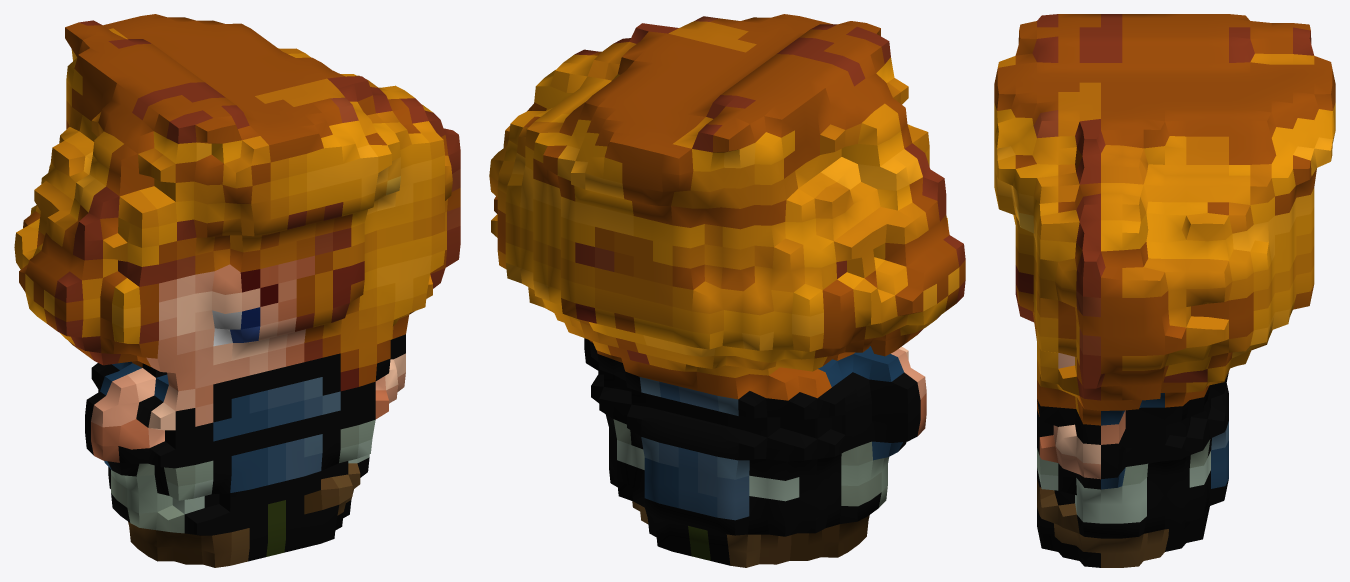
The model's file is Icon_010_03.obj.
3 renders of one model, left to right at view 1: azimuth 30°, elevation 25°; view 2: azimuth 150°, elevation 25°; view 3: azimuth 270°, elevation 25°, orthographic. The views are drawn at different scales.
Size of the model in its own units: 2.2 by 2.4 by 1.6.
Materials: 1 (1 with a texture image).
